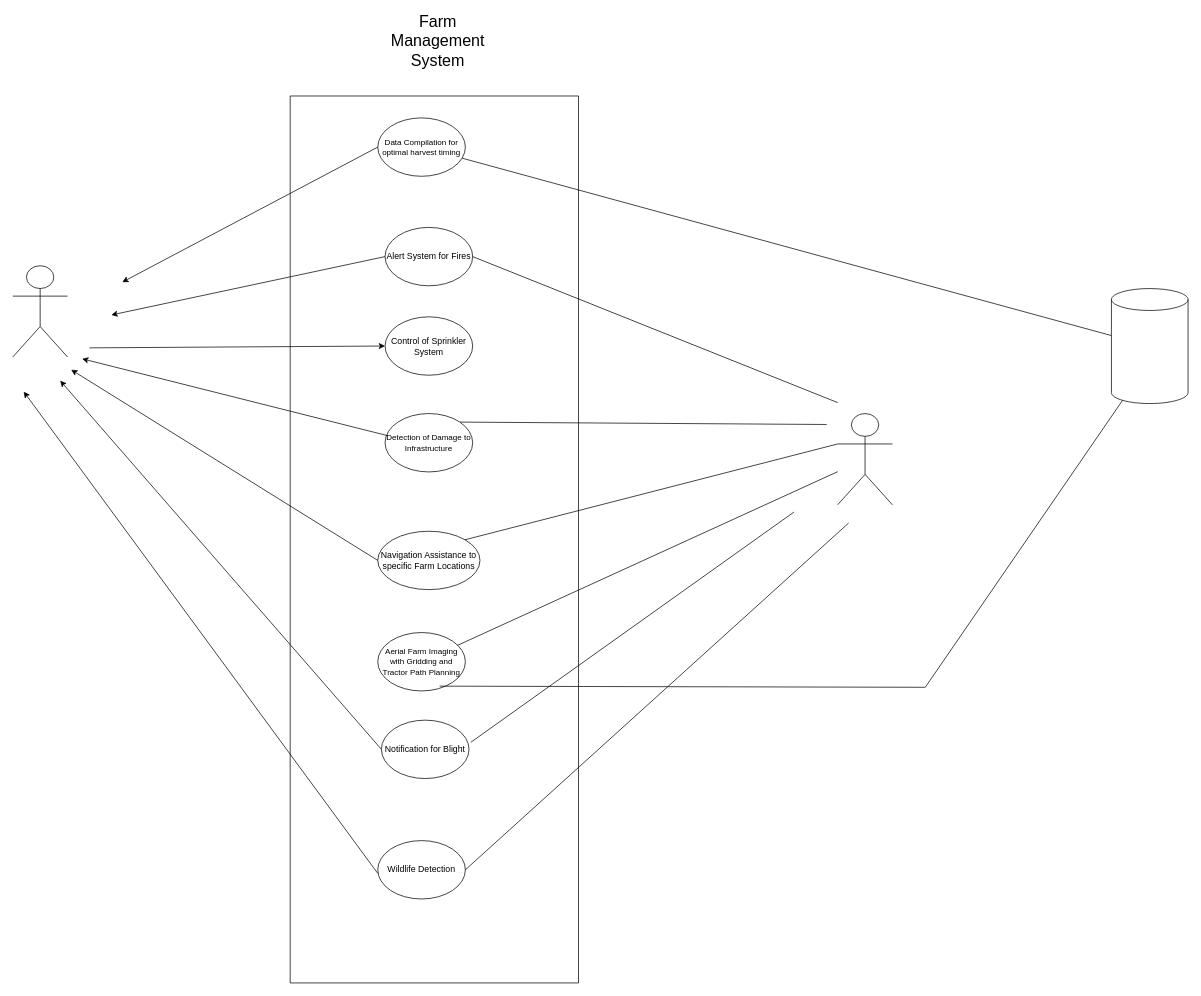
Some shapes in this 1201 by 996 pixel diagram are drawn without their labels. The centre of each missing label's shape, as x and y in pixels:
"Data storage" belongs at pixel 1149 346.
"Drone" belongs at pixel 864 459.
"Farmer" belongs at pixel 40 311.
